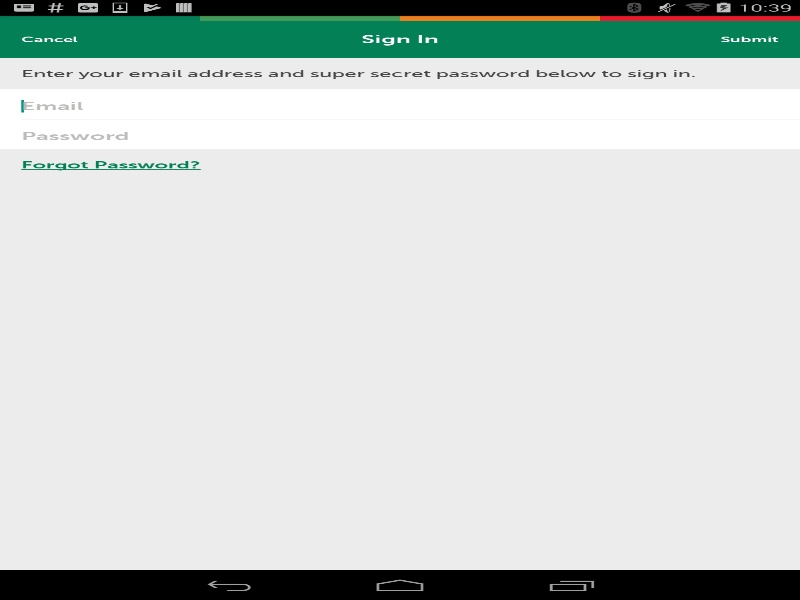Input: (21, 93, 800, 119), (21, 123, 800, 149)
